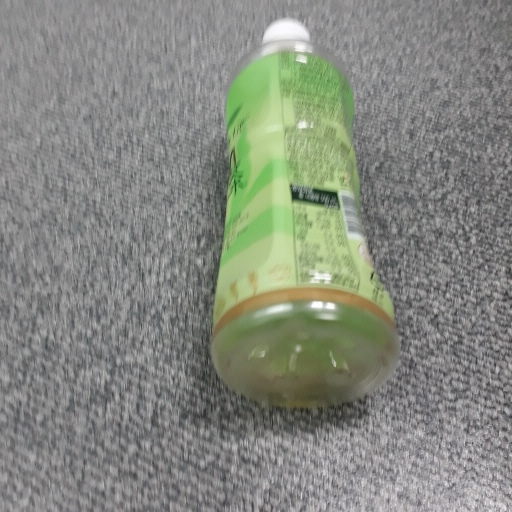Plastic_0: (197, 16, 401, 406)
